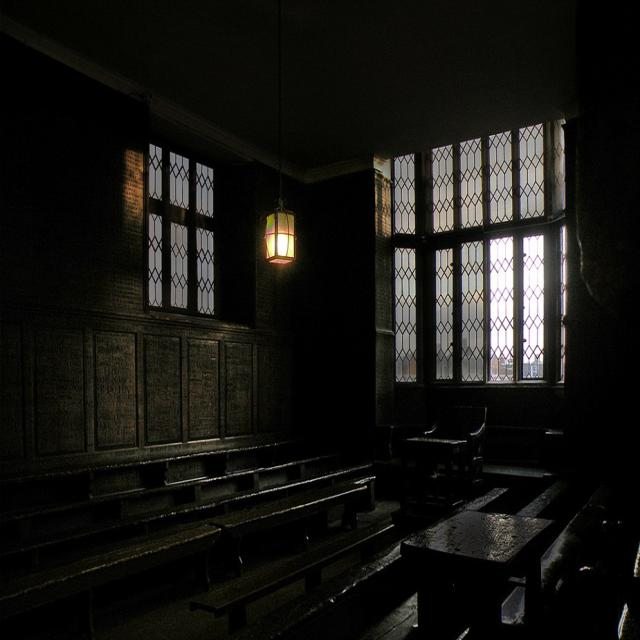Table: (400, 466, 567, 640)
chair: (404, 367, 508, 493)
